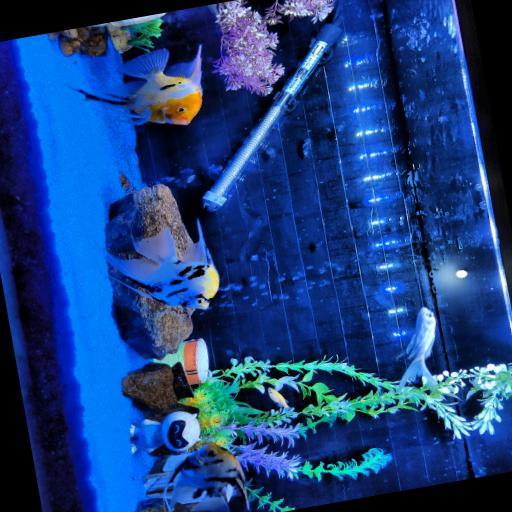Fish: (105, 219, 218, 308), (78, 44, 201, 124), (170, 441, 248, 511), (397, 306, 435, 391), (267, 387, 288, 407)
